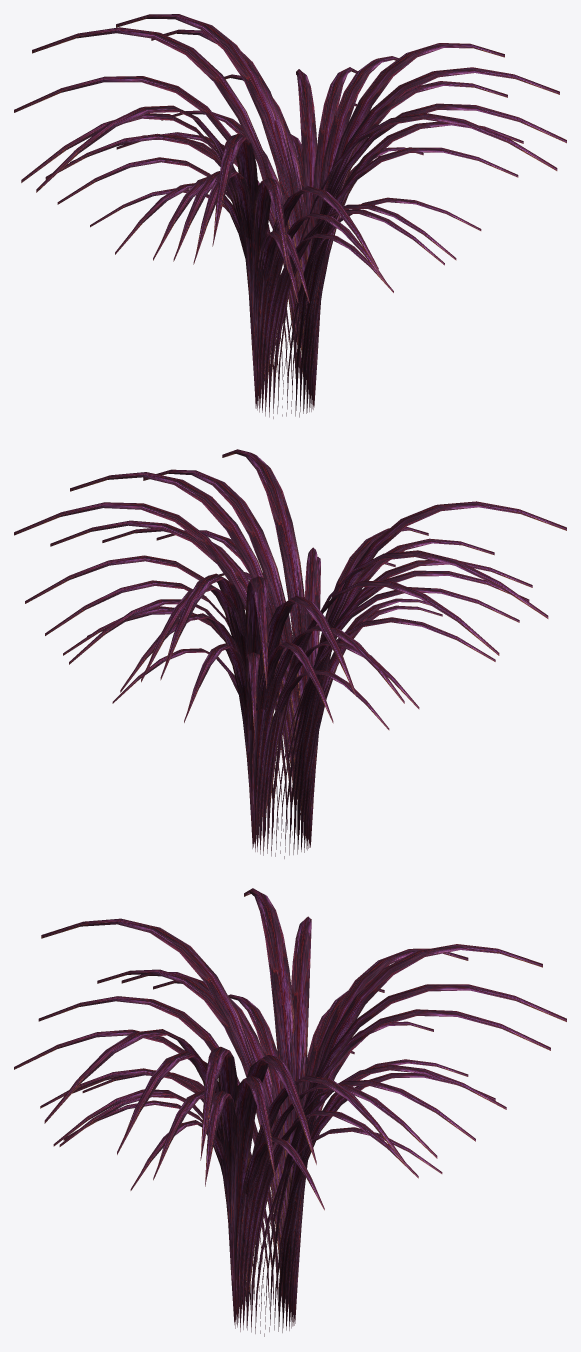
The model's file is finegrass_meadow_08.glb.
The picture shows the model from 3 angles, top to bottom: view 1: azimuth 30°, elevation 25°; view 2: azimuth 150°, elevation 25°; view 3: azimuth 270°, elevation 25°; orthographic projection. The views are drawn at different scales.
Parts seen in each view (by area): view 1: export; view 2: export; view 3: export.
Boxes of the visible parts, <box> form: export: <box>14,14,566,418</box>; export: <box>14,449,566,858</box>; export: <box>14,888,566,1336</box>.
Bounding box in the file's own units: 1.59 × 1.01 × 1.45.
Materials: 1 (1 with a texture image).
